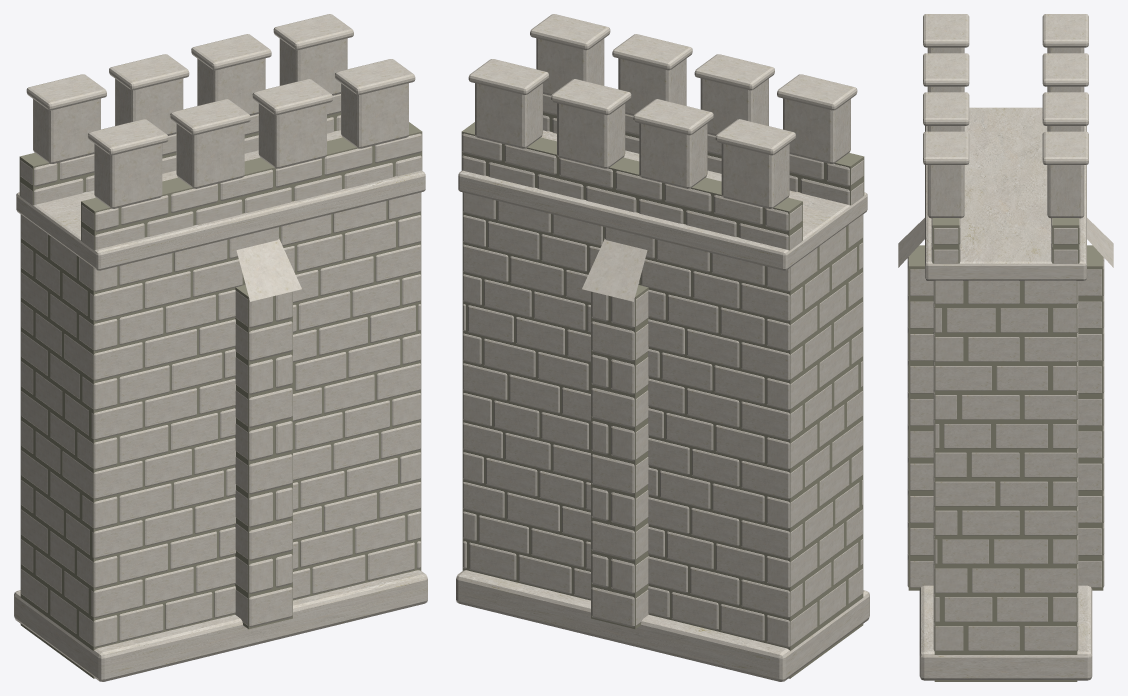
File: wall_north.glb
3 renders of one model, left to right at view 1: azimuth 30°, elevation 25°; view 2: azimuth 150°, elevation 25°; view 3: azimuth 270°, elevation 25°, orthographic. The views are drawn at different scales.
Parts seen in each view (by area): view 1: Hand-cut curtain masonry, Battlement merlons, Hand-cut curtain masonry core, Wall buttress, Parapet masonry, Weathered coping, Battered wall plinth, Continuous wall walk, Parapet masonry core, Wall buttress core, Buttress sloped shoulder; view 2: Hand-cut curtain masonry, Battlement merlons, Hand-cut curtain masonry core, Wall buttress, Parapet masonry, Weathered coping, Battered wall plinth, Continuous wall walk, Parapet masonry core, Wall buttress core, Buttress sloped shoulder; view 3: Hand-cut curtain masonry, Continuous wall walk, Hand-cut curtain masonry core, Wall buttress, Weathered coping, Battered wall plinth, Battlement merlons, Wall buttress core, Parapet masonry, Buttress sloped shoulder, Parapet masonry core.
Part boxes in pixels (left/top/right/bottom): Hand-cut curtain masonry: left=21, top=192, right=420, bottom=647; Battlement merlons: left=33, top=38, right=408, bottom=208; Hand-cut curtain masonry core: left=20, top=192, right=421, bottom=678; Wall buttress: left=235, top=291, right=292, bottom=627; Parapet masonry: left=20, top=94, right=421, bottom=250; Weathered coping: left=26, top=14, right=415, bottom=155; Battered wall plinth: left=14, top=570, right=427, bottom=681; Continuous wall walk: left=16, top=130, right=425, bottom=270; Parapet masonry core: left=19, top=112, right=422, bottom=250; Wall buttress core: left=235, top=285, right=292, bottom=629; Buttress sloped shoulder: left=236, top=238, right=301, bottom=301; Hand-cut curtain masonry: left=463, top=192, right=862, bottom=647; Battlement merlons: left=475, top=38, right=850, bottom=208; Hand-cut curtain masonry core: left=462, top=192, right=863, bottom=678; Wall buttress: left=591, top=291, right=648, bottom=627; Parapet masonry: left=462, top=94, right=863, bottom=250; Weathered coping: left=468, top=14, right=857, bottom=155; Battered wall plinth: left=456, top=570, right=869, bottom=681; Continuous wall walk: left=458, top=130, right=867, bottom=270; Parapet masonry core: left=461, top=112, right=864, bottom=250; Wall buttress core: left=591, top=285, right=648, bottom=629; Buttress sloped shoulder: left=582, top=238, right=647, bottom=301; Hand-cut curtain masonry: left=933, top=280, right=1078, bottom=650; Continuous wall walk: left=925, top=107, right=1086, bottom=280; Hand-cut curtain masonry core: left=934, top=281, right=1077, bottom=681; Wall buttress: left=907, top=257, right=1104, bottom=587; Weathered coping: left=923, top=14, right=1088, bottom=164; Battered wall plinth: left=919, top=585, right=1092, bottom=680; Battlement merlons: left=927, top=47, right=1084, bottom=218; Wall buttress core: left=908, top=245, right=1103, bottom=590; Parapet masonry: left=931, top=218, right=1080, bottom=263; Buttress sloped shoulder: left=898, top=218, right=1113, bottom=267; Parapet masonry core: left=932, top=218, right=1079, bottom=263.
Bounding box in the file's own units: 2.79 × 4.3 × 1.62.
Materials: 4 (3 with a texture image).
